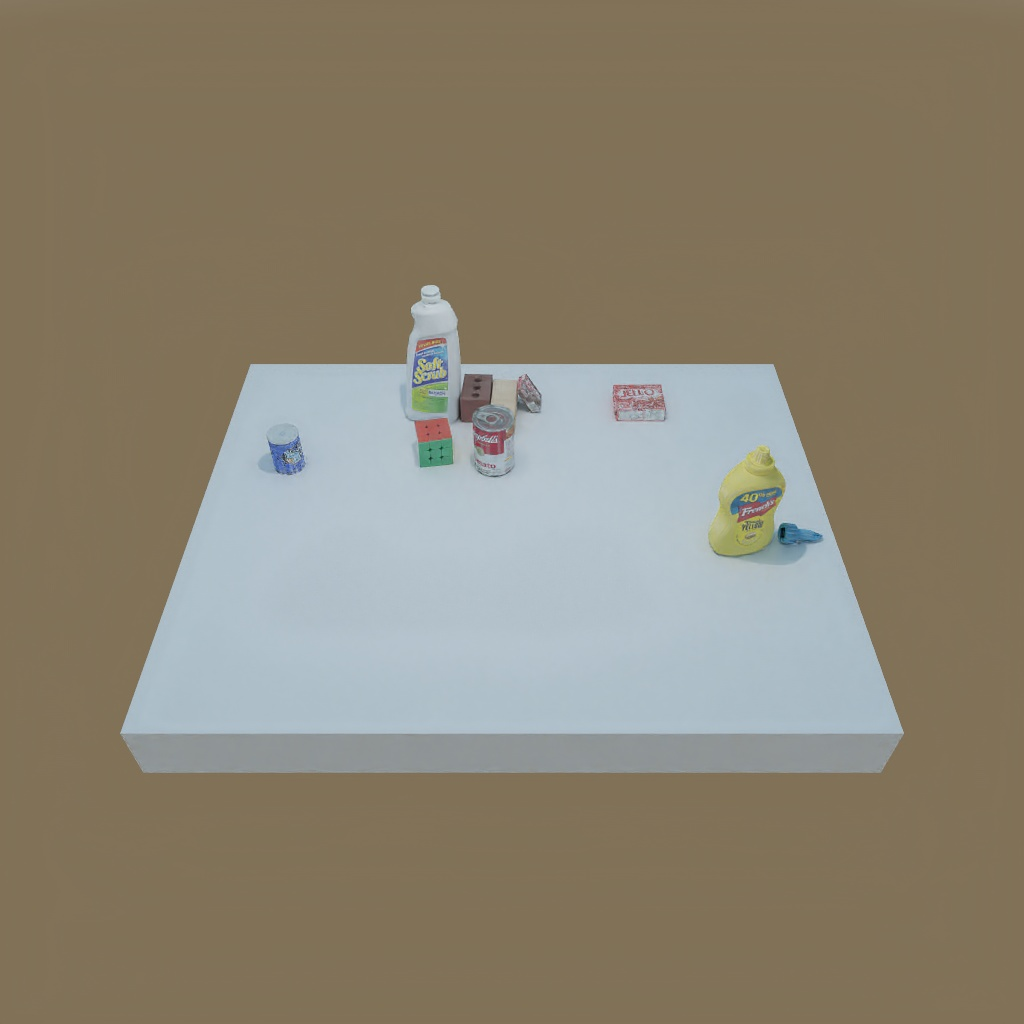gelatin_box: (608, 379, 673, 423)
master_chef_can: (259, 422, 312, 472)
mustard_bottle: (713, 446, 776, 557)
pudding_box: (512, 376, 542, 414)
rubiks_cube: (413, 418, 458, 466)
tomato_soup_can: (469, 401, 517, 476)
wood_block: (492, 379, 519, 425)
